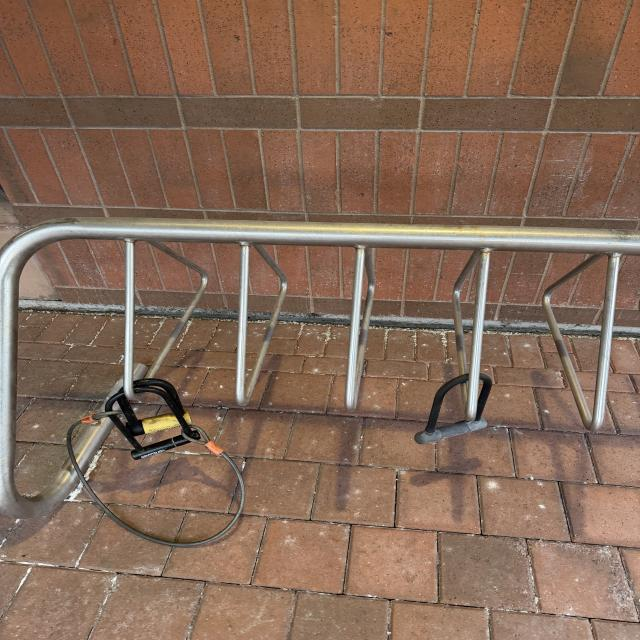Bicycle Rack: (2, 218, 640, 520)
